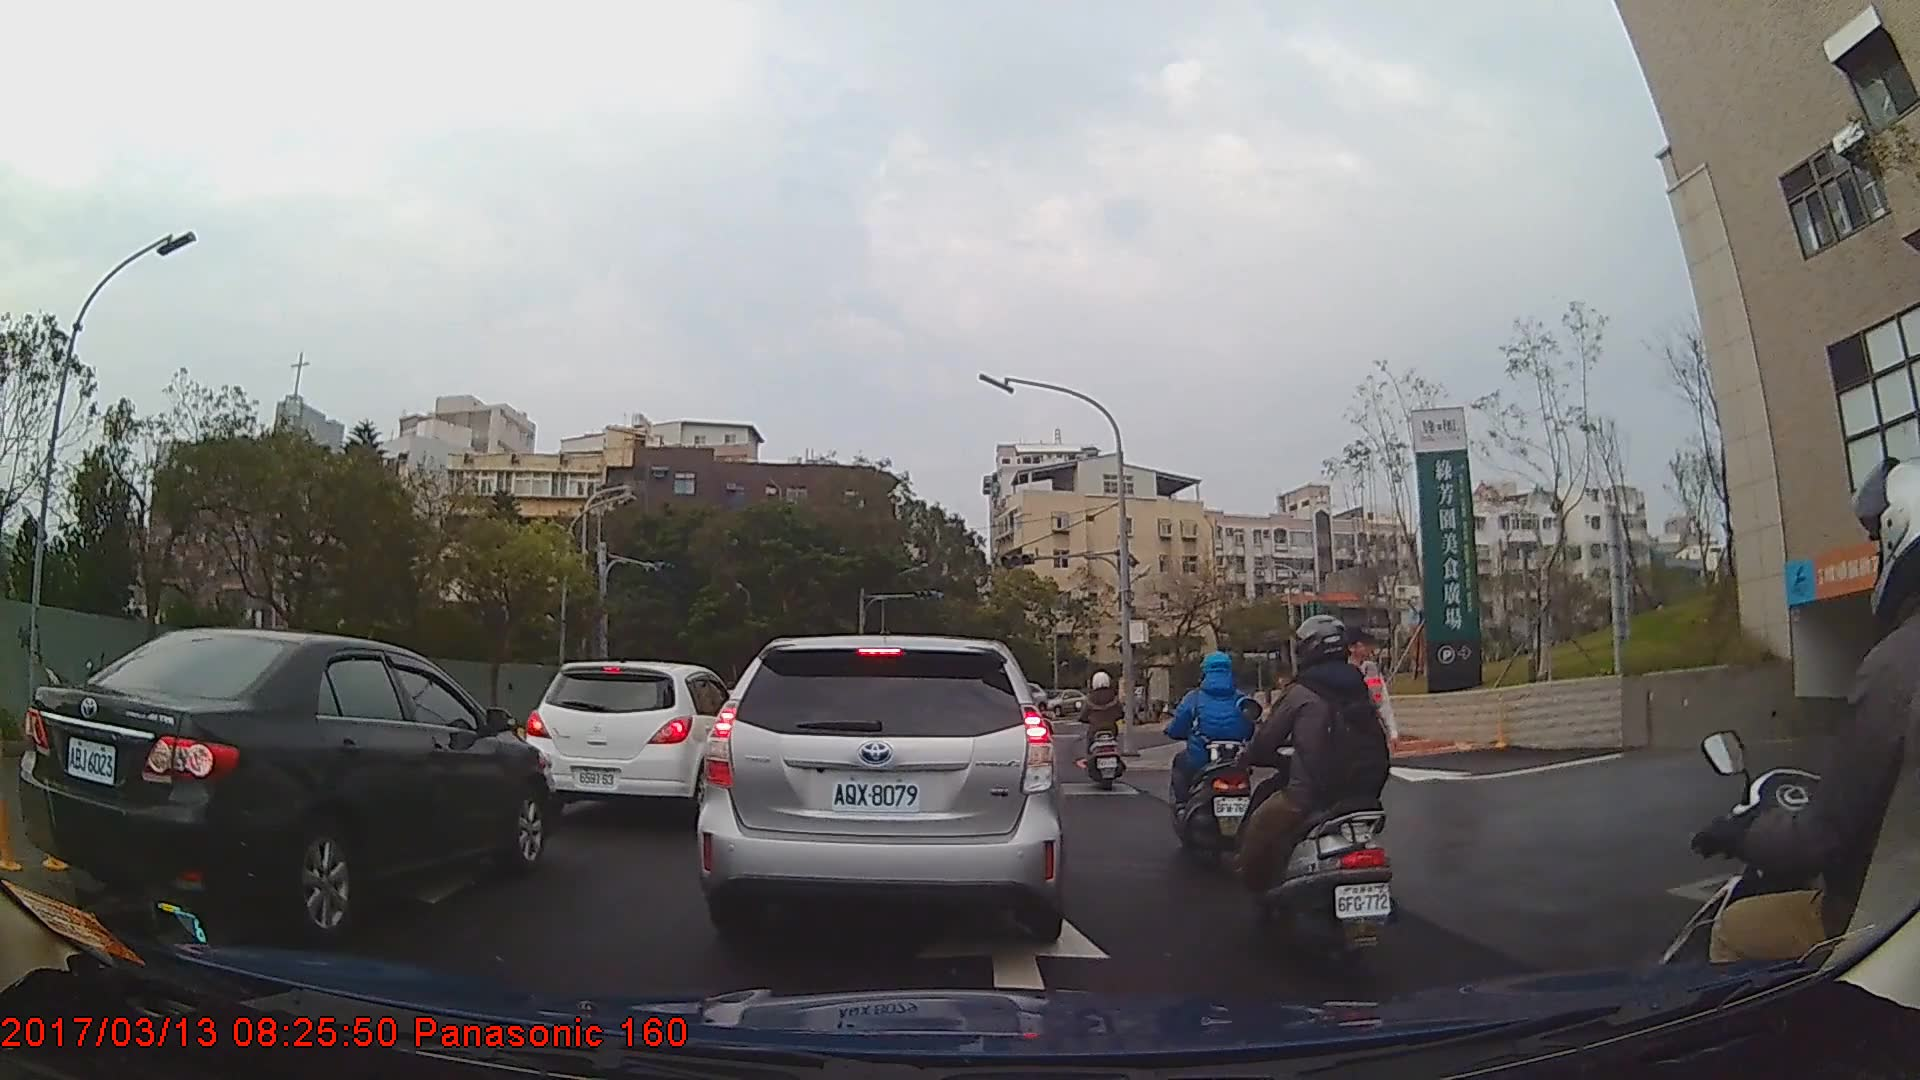pedestrian: (1321, 619, 1401, 861)
rider: (1643, 456, 1920, 1080), (1230, 612, 1404, 984), (1166, 649, 1260, 870), (1076, 670, 1128, 791)
vehicle: (23, 623, 554, 941), (695, 632, 1066, 948), (519, 659, 738, 824), (1047, 687, 1087, 716)
